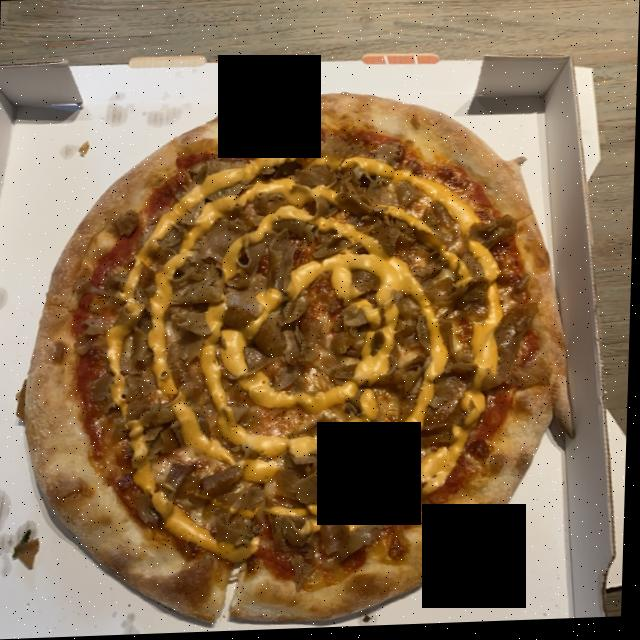pizza-margherita-baked: (49, 114, 551, 605)
sauce-cocktail: (108, 159, 505, 551)
